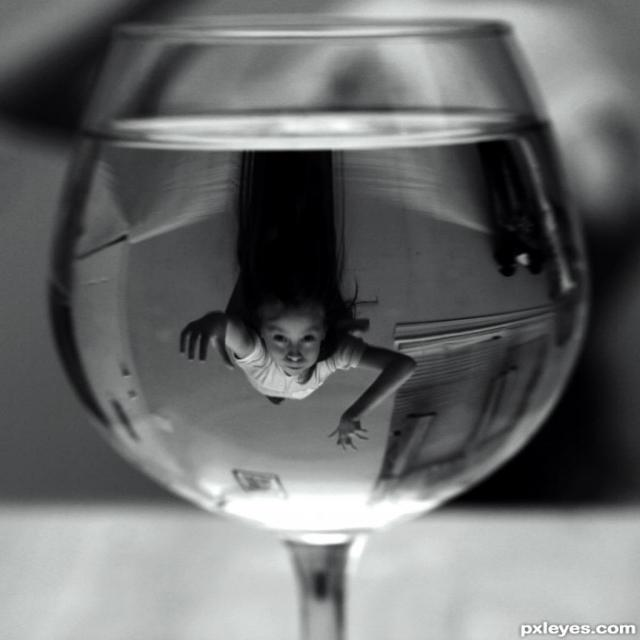nomask: (270, 314, 322, 376)
